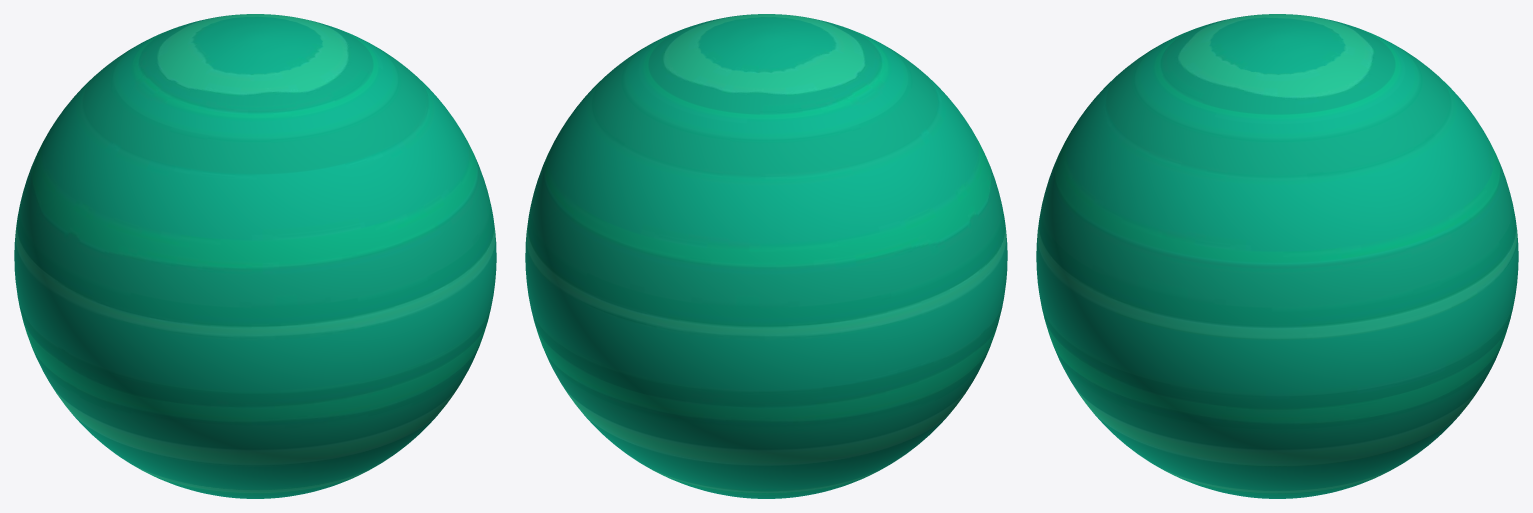
The model's file is green_pic.glb.
3 renders of one model, left to right at view 1: azimuth 30°, elevation 25°; view 2: azimuth 150°, elevation 25°; view 3: azimuth 270°, elevation 25°, orthographic.
Visible parts, largest first — view 1: green pic; view 2: green pic; view 3: green pic.
Boxes of the visible parts, x1,y1,x2,y2 form: green pic: (14, 14, 496, 498); green pic: (525, 14, 1007, 498); green pic: (1036, 14, 1518, 498).
Bounding box in the file's own units: 0.9852 × 0.9965 × 0.9852.
Materials: 1 (1 with a texture image).
